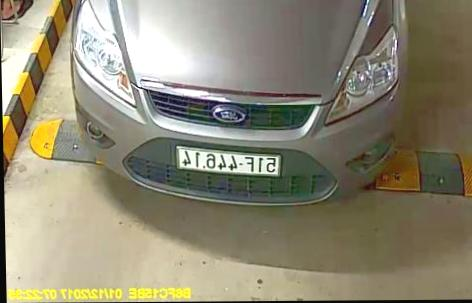License_Plate: (175, 147, 282, 178)
